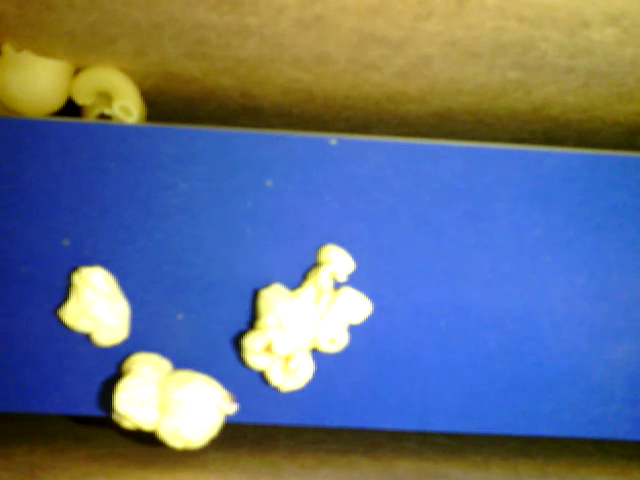elbow: (72, 64, 141, 122)
shell: (1, 42, 75, 115), (84, 92, 147, 121)
